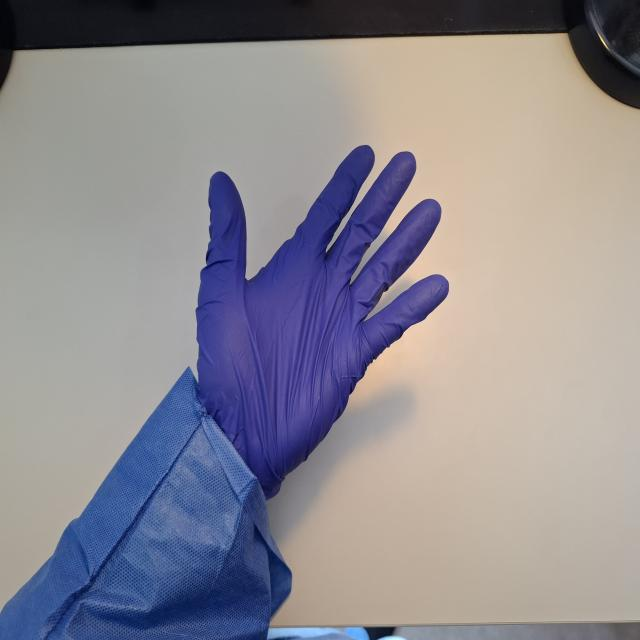glove_on: (192, 142, 452, 505)
